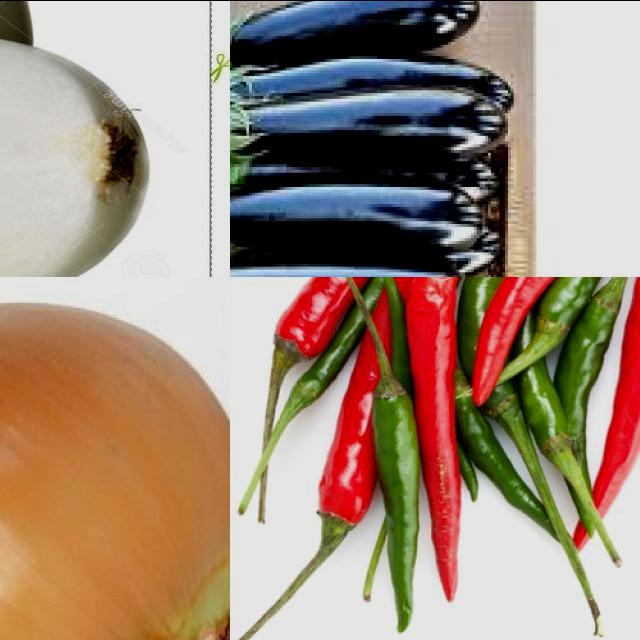eggplant: (231, 90, 503, 167), (231, 179, 483, 256), (231, 1, 477, 71), (231, 57, 509, 116)
onion: (1, 298, 231, 640), (1, 36, 148, 277)
